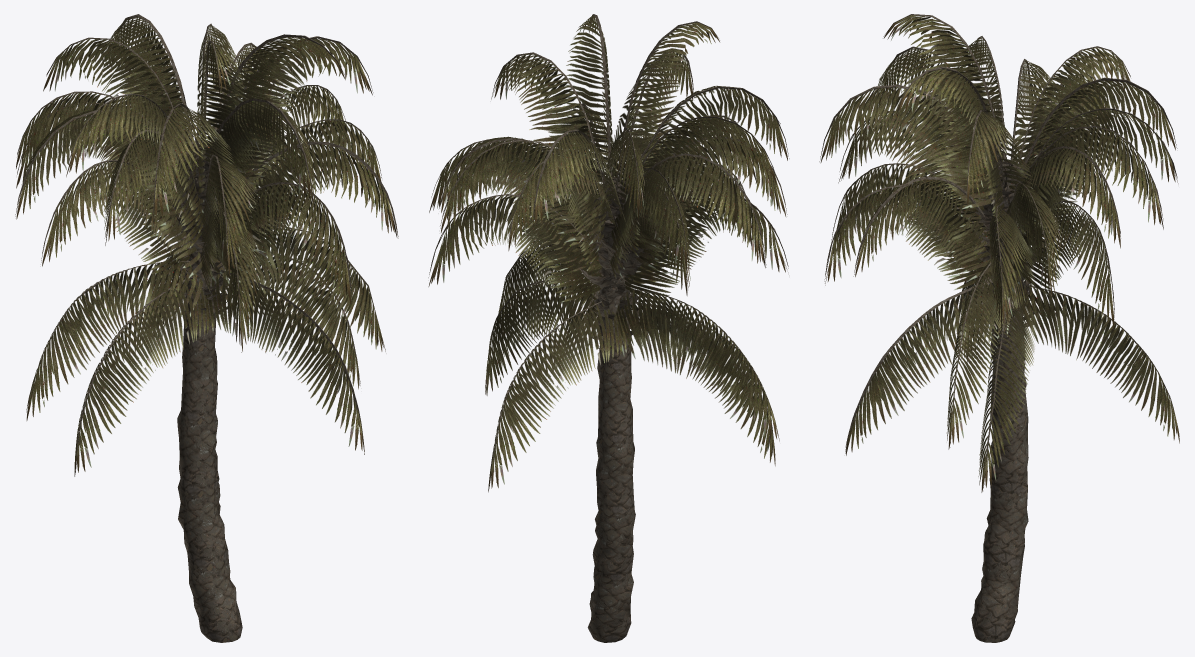
Rendered from weathered_a.glb.
3 views of the same model, side by side, from view 1: azimuth 30°, elevation 25°; view 2: azimuth 150°, elevation 25°; view 3: azimuth 270°, elevation 25° (orthographic). The views are drawn at different scales.
Visible parts, largest first — view 1: Palm_tree_001_v2_w; view 2: Palm_tree_001_v2_w; view 3: Palm_tree_001_v2_w.
Part boxes in pixels (x1=…): Palm_tree_001_v2_w: x1=15, y1=14, x2=398, y2=642; Palm_tree_001_v2_w: x1=428, y1=14, x2=789, y2=642; Palm_tree_001_v2_w: x1=819, y1=14, x2=1179, y2=642.
Bounding box in the file's own units: 7.11 × 12 × 6.55.
Materials: 2 (2 with a texture image).
